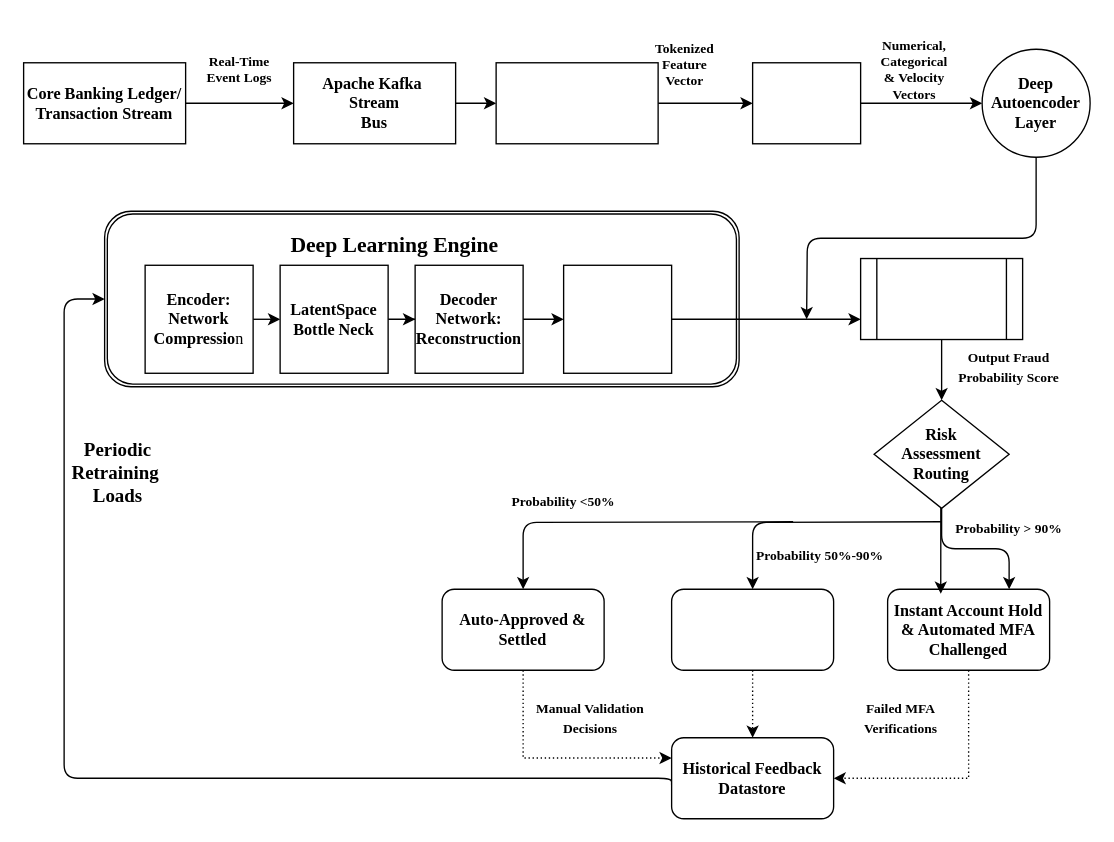
The diagram is 1114 pixels wide and 842 high, and some of its shapes have lost their labels. The shapes that lost their labels are listed below. From the top down, each one's box as (x1, y1, x2, y2) in pixels, then its label:
(495, 61, 658, 144): PPI Anonymization & Hashing Layer
(751, 61, 861, 144): Feature Engineering Pipeline
(562, 264, 672, 373): Reconstruction Error: Calculation
(859, 257, 1023, 340): Gradient Boosted Decision Head
(670, 588, 834, 670): Express Human Analyst Dashboard
